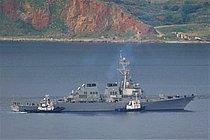MIL_Ship: (11, 49, 198, 113)
